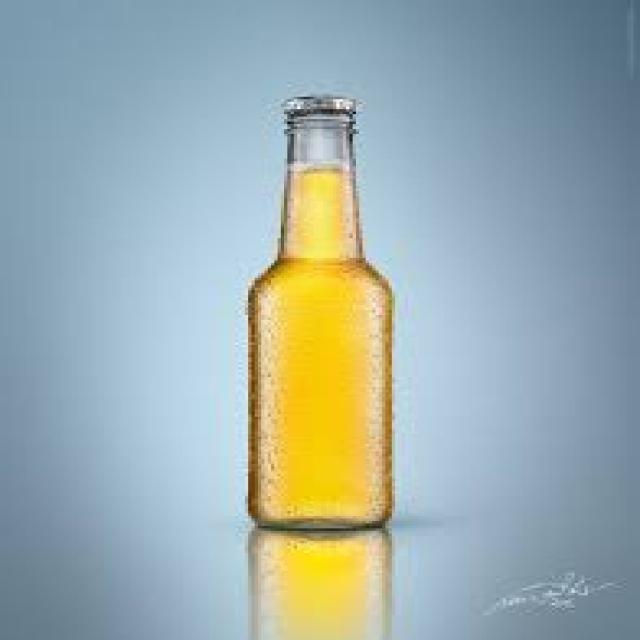glass: (242, 110, 392, 529)
metal: (277, 94, 356, 114)
